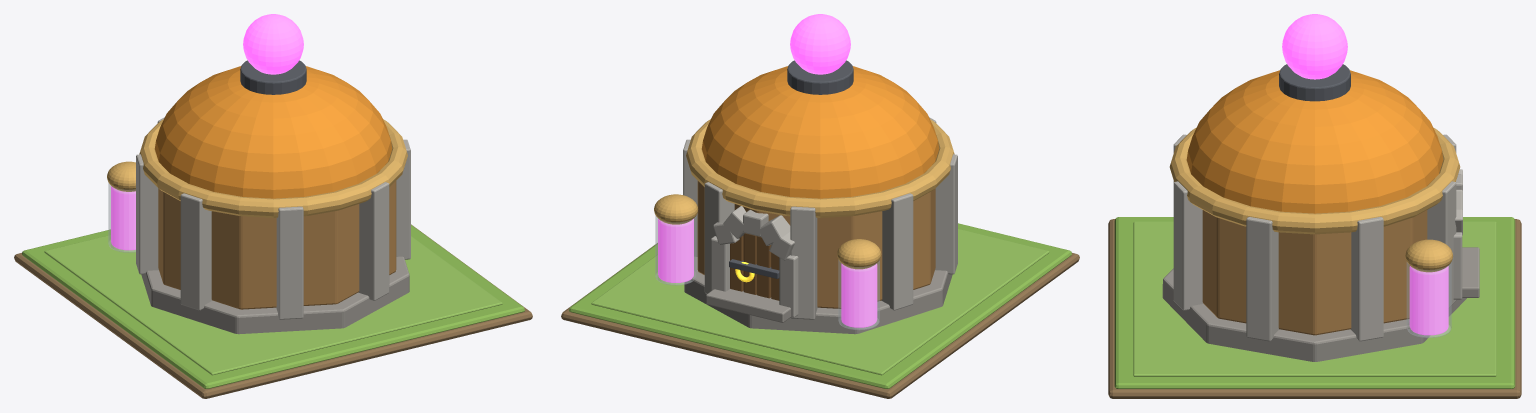
The model's file is laboratory_lv1.glb.
3 views of the same model, side by side, from view 1: azimuth 30°, elevation 25°; view 2: azimuth 150°, elevation 25°; view 3: azimuth 270°, elevation 25° (orthographic). The views are drawn at different scales.
Visible parts, largest first — view 1: LabDome, Base_Inner, LabWallDrum, Base_Grass, LabPlinth, LabDomeRim, Base_Dirt, LabPillar_4, LabPillar_6, LabPillar_5, ArcaneOrb, LabPillar_3 (+5 smaller); view 2: LabDome, Base_Inner, Base_Grass, LabWallDrum, LabDomeRim, Base_Dirt, LabPlinth, LabPillar_3, ArcaneOrb, SideVatGlass_0, SideVatGlass_1, LabPillar_2 (+18 smaller); view 3: LabDome, Base_Inner, LabWallDrum, Base_Grass, LabDomeRim, Base_Dirt, LabPlinth, LabPillar_0, LabPillar_7, ArcaneOrb, LabPillar_6, SideVatGlass_0 (+6 smaller).
Part boxes in pixels (box(x1,y1,x2,y2)): LabDome: box(154, 66, 392, 198); Base_Inner: box(44, 235, 502, 375); LabWallDrum: box(158, 181, 396, 309); Base_Grass: box(22, 225, 524, 388); LabPlinth: box(141, 256, 409, 334); LabDomeRim: box(139, 119, 407, 217); Base_Dirt: box(14, 224, 532, 398); LabPillar_4: box(180, 193, 212, 310); LabPillar_6: box(358, 182, 389, 300); LabPillar_5: box(276, 206, 303, 319); ArcaneOrb: box(243, 14, 303, 74); LabPillar_3: box(136, 154, 158, 274); LabDome: box(701, 66, 939, 198); Base_Inner: box(591, 229, 1049, 375); Base_Grass: box(569, 223, 1071, 388); LabWallDrum: box(697, 181, 935, 308); LabDomeRim: box(686, 119, 954, 217); Base_Dirt: box(561, 244, 1079, 398); LabPlinth: box(684, 256, 952, 334); LabPillar_3: box(881, 193, 913, 310); ArcaneOrb: box(790, 14, 850, 74); SideVatGlass_0: box(655, 215, 696, 285); SideVatGlass_1: box(838, 260, 879, 330); LabPillar_2: box(790, 206, 817, 319); LabDome: box(1186, 70, 1443, 213); Base_Inner: box(1133, 221, 1496, 376); LabWallDrum: box(1202, 210, 1427, 335); Base_Grass: box(1114, 217, 1515, 388); LabDomeRim: box(1169, 127, 1460, 234); Base_Dirt: box(1108, 219, 1521, 398); LabPlinth: box(1162, 268, 1466, 361); LabPillar_0: box(1351, 217, 1383, 341); LabPillar_7: box(1246, 217, 1278, 341); ArcaneOrb: box(1282, 14, 1347, 79); LabPillar_6: box(1173, 181, 1203, 310); SideVatGlass_0: box(1406, 262, 1451, 337).
Bounding box in the file's own units: 2.76 × 2.19 × 2.76.
